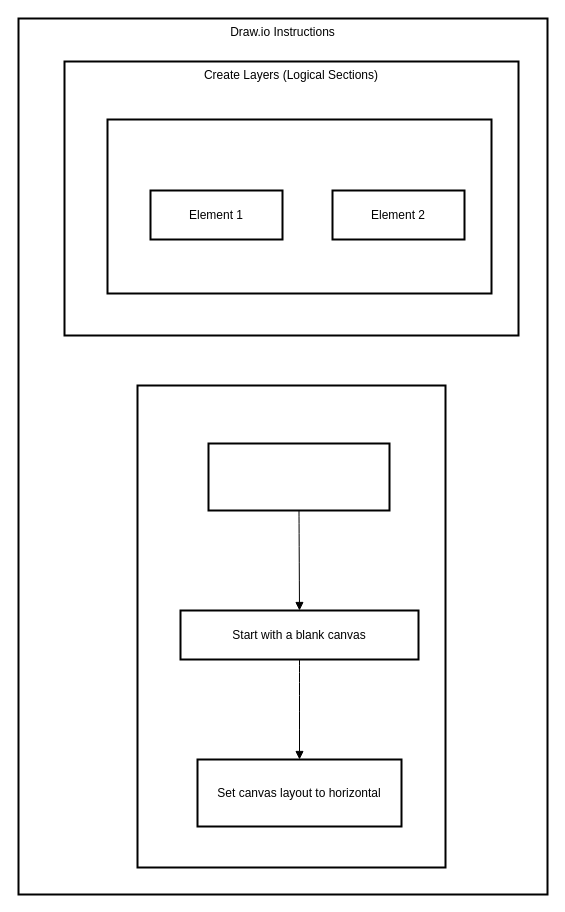
Image size: 565x912. Some labels were removed from this diagram. The shapes that lost their labels are listed below. From the top down, each one's box as (x1, y1, x2, y2) in pixels, then its label:
(106, 118, 492, 294): User Layer
(207, 442, 390, 511): Open Draw.io (or diagrams.net)
(136, 384, 446, 868): Draw.io Canvas Setup
